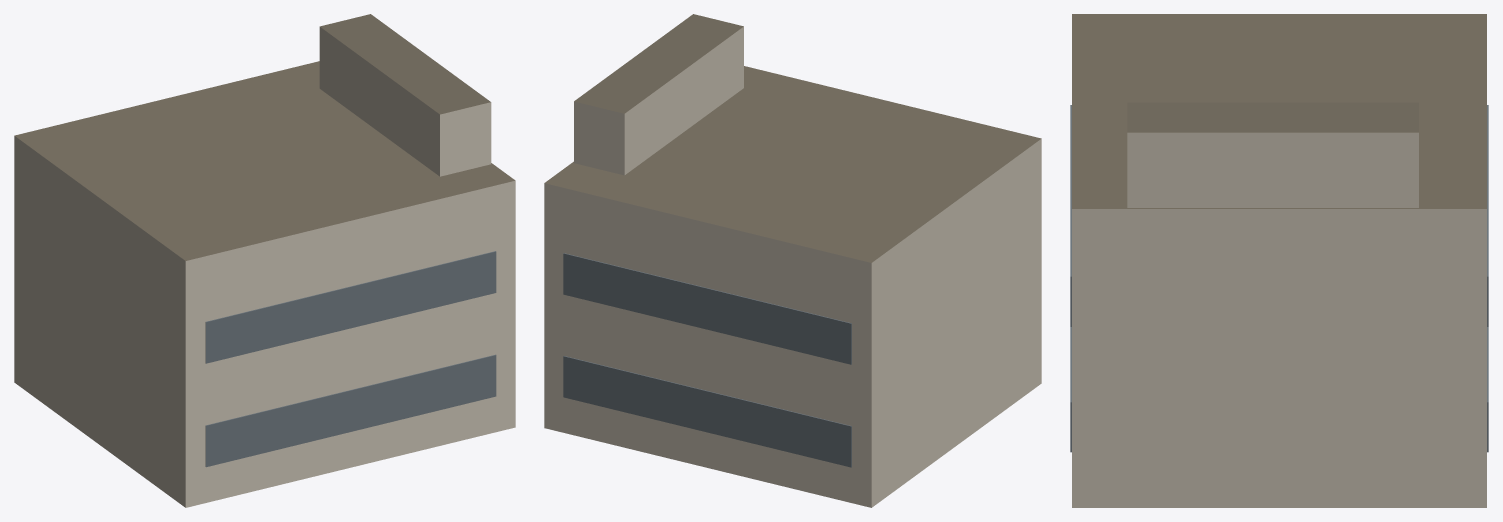
The model's file is bay-villa-cream.tone-v1.lod2.glb.
3 views of the same model, side by side, from view 1: azimuth 30°, elevation 25°; view 2: azimuth 150°, elevation 25°; view 3: azimuth 270°, elevation 25° (orthographic). The views are drawn at different scales.
Parts seen in each view (by area): view 1: bay-villa-cream; view 2: bay-villa-cream; view 3: bay-villa-cream.
Boxes of the visible parts, x1,y1,x2,y2 form: bay-villa-cream: [14, 14, 515, 507]; bay-villa-cream: [544, 14, 1041, 507]; bay-villa-cream: [1070, 14, 1488, 507].
Bounding box in the file's own units: 10 × 8.95 × 9.06.
